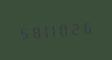eight: (28, 22, 38, 41)
five: (17, 23, 27, 42)
one: (39, 21, 49, 40), (50, 20, 60, 39)
six: (83, 17, 93, 36)
two: (72, 18, 82, 37)
zero: (61, 19, 71, 38)
